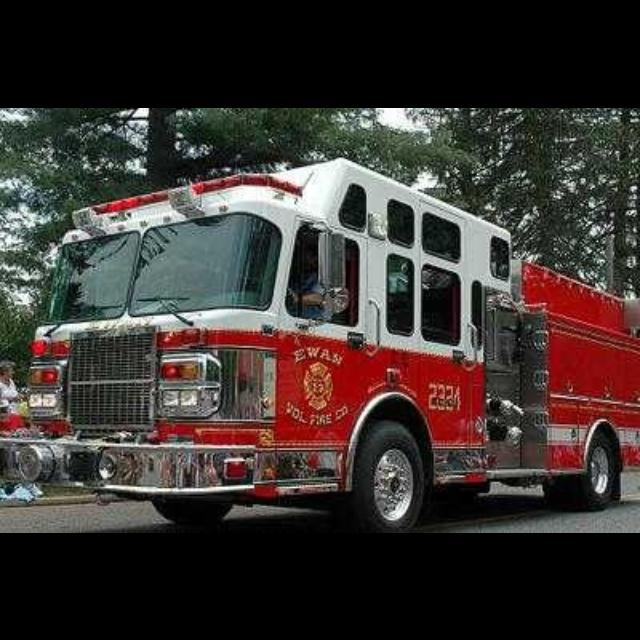emergency: (6, 157, 638, 529)
